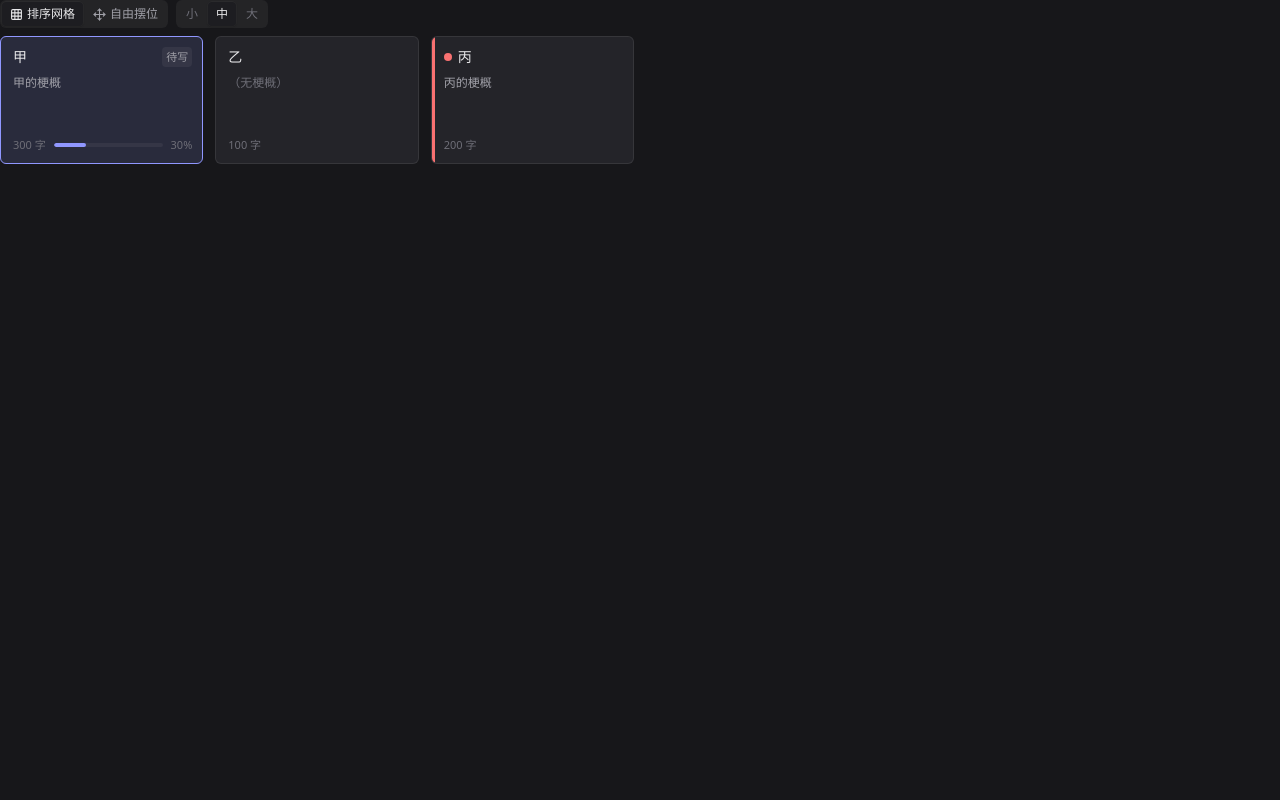
Test: Corkboard 自由摆位（M7 批次7） › 拖动卡片：dragOver 实时更新位置，drop 落库坐标
Click the button with test id "corkboard-mode-freeform": click(126, 14) [85, 2, 166, 26]
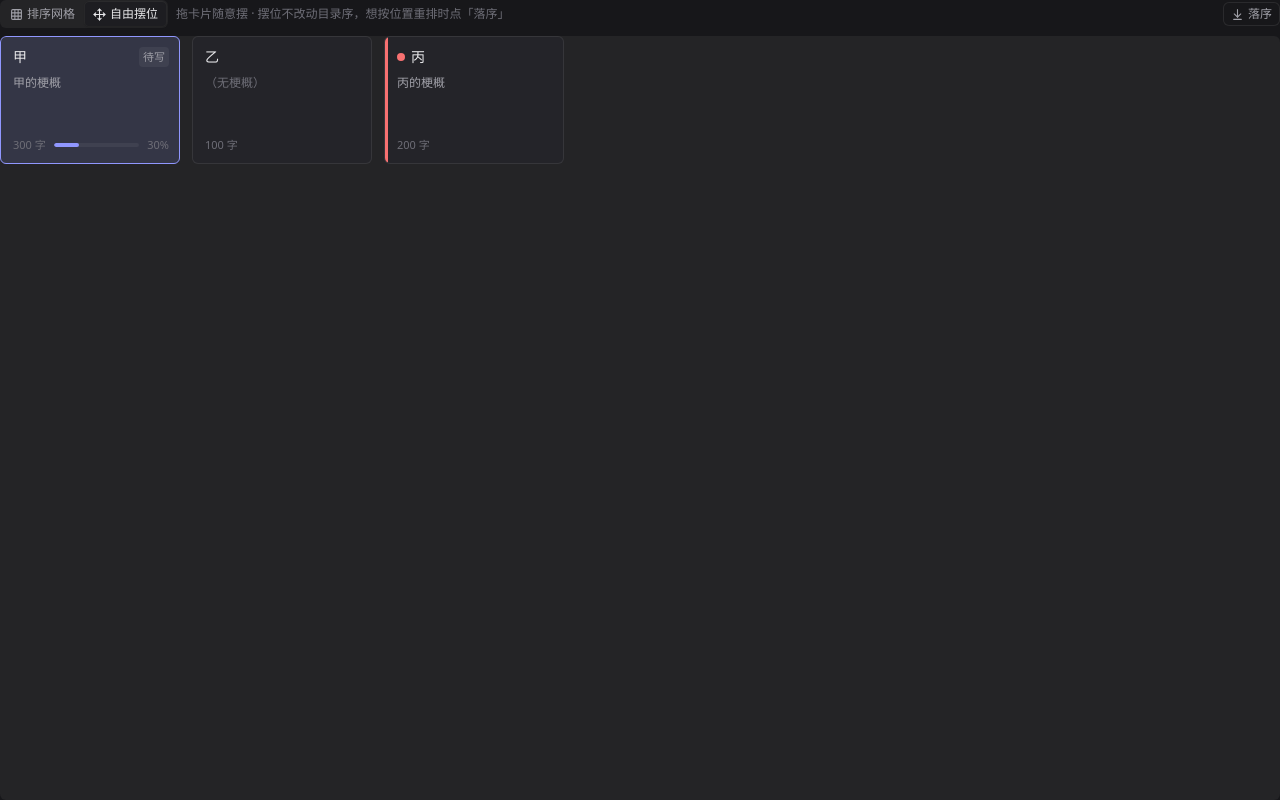
Result: the element with test id "corkboard-freeform-canvas" is shown
